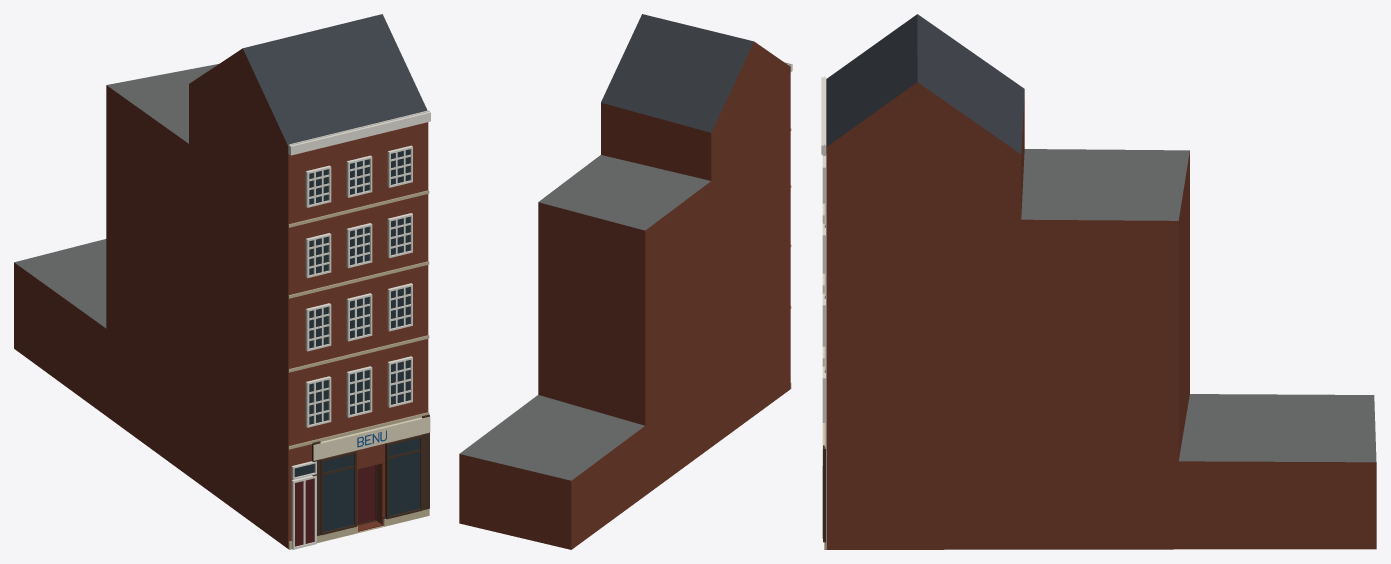
File: recipe-bilder-092395.glb
3 views of the same model, side by side, from view 1: azimuth 30°, elevation 25°; view 2: azimuth 150°, elevation 25°; view 3: azimuth 270°, elevation 25° (orthographic). The views are drawn at different scales.
Visible parts, largest first — view 1: bilder-092395; view 2: bilder-092395; view 3: bilder-092395.
Boxes of the visible parts, x1=… form: bilder-092395: x1=14, y1=14, x2=430, y2=549; bilder-092395: x1=459, y1=14, x2=792, y2=549; bilder-092395: x1=821, y1=14, x2=1376, y2=549.
Bounding box in the file's own units: 5.81 × 18.48 × 19.88.
